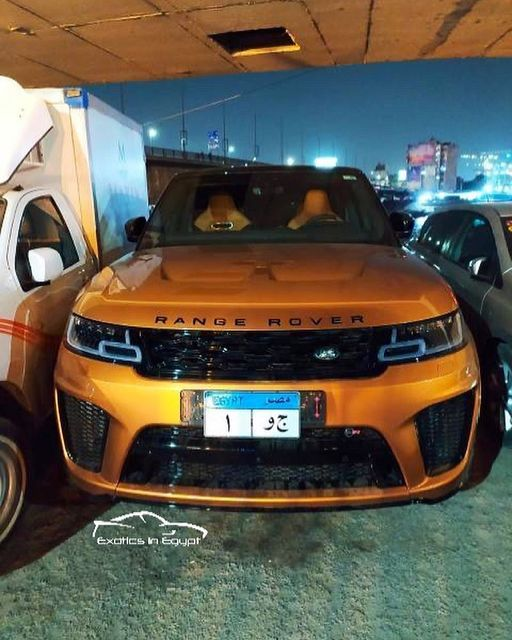carpl: (203, 394, 301, 436)
